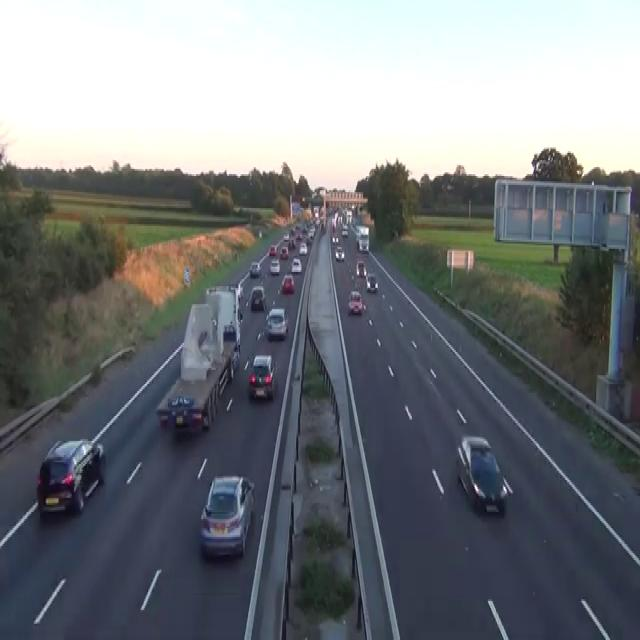Car: (36, 438, 106, 518), (200, 475, 255, 558), (455, 434, 509, 514), (155, 393, 209, 434), (247, 354, 276, 400), (265, 308, 288, 338), (246, 285, 266, 311), (347, 290, 365, 314), (226, 350, 239, 382), (229, 282, 243, 300), (281, 274, 294, 293), (249, 260, 261, 278), (366, 274, 378, 292), (230, 351, 239, 374), (223, 318, 235, 334), (356, 260, 366, 278), (269, 258, 280, 274), (335, 246, 344, 262), (358, 237, 369, 250), (291, 258, 301, 272), (280, 246, 288, 260), (288, 236, 296, 249), (299, 242, 307, 254), (269, 244, 277, 256), (237, 282, 243, 298), (341, 224, 348, 236), (237, 308, 243, 322), (308, 226, 315, 238), (206, 286, 216, 294), (332, 234, 339, 243), (283, 231, 289, 240), (331, 217, 335, 229), (258, 230, 262, 238)
Truck: (155, 284, 241, 434), (355, 226, 369, 250)
